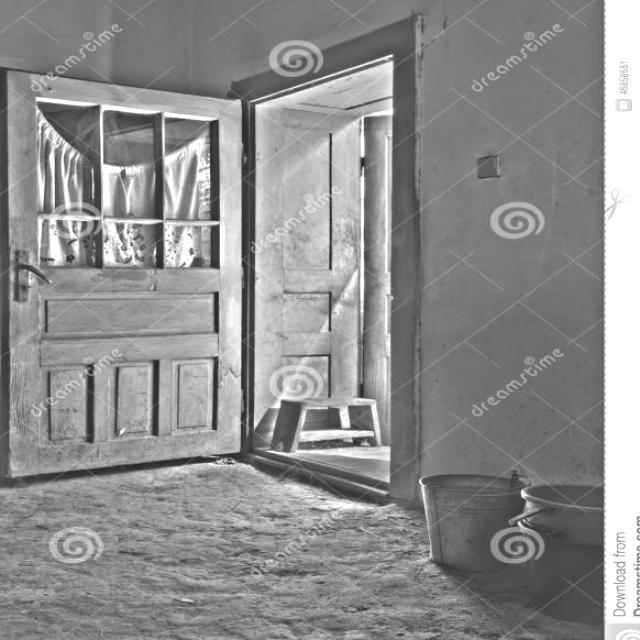door: (0, 66, 243, 481)
